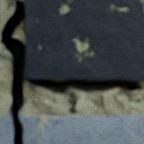brick: (24, 0, 143, 79)
broken_brick: (19, 114, 143, 143), (0, 115, 13, 143)
crack: (0, 0, 142, 143)
